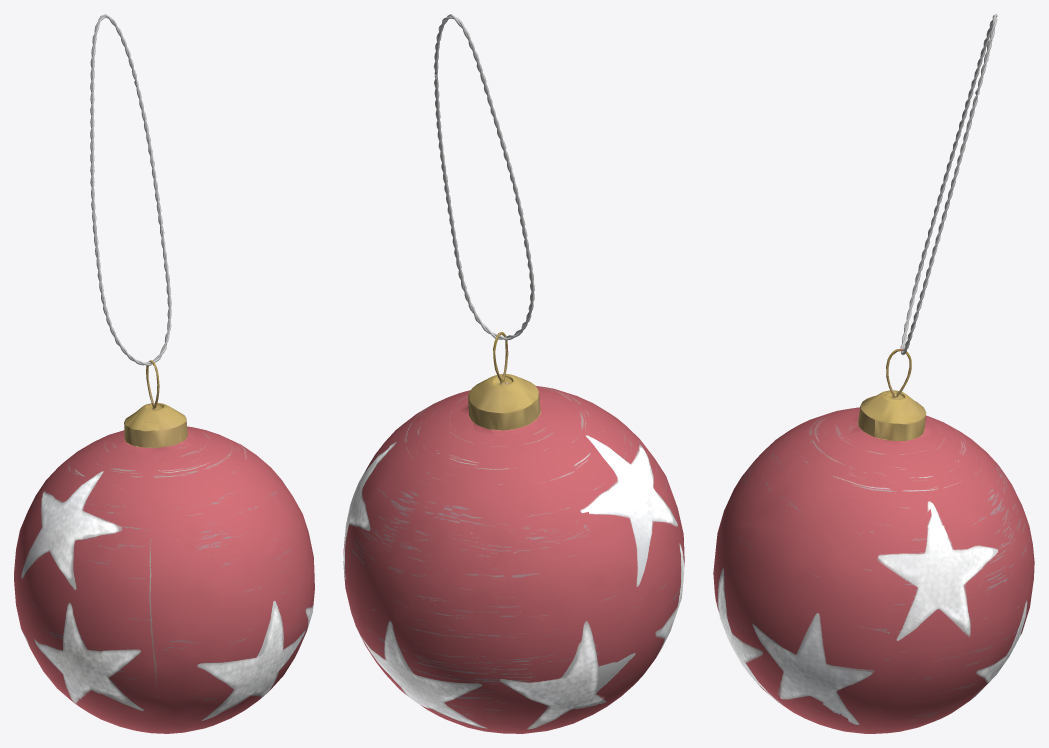
3 renders of one model, left to right at view 1: azimuth 30°, elevation 25°; view 2: azimuth 150°, elevation 25°; view 3: azimuth 270°, elevation 25°, orthographic. The views are drawn at different scales.
Parts seen in each view (by area): view 1: Mesh1.0, GN Instance; view 2: Mesh1.0, GN Instance; view 3: Mesh1.0, GN Instance.
Part boxes in pixels (box(x1,y1,x2,y2)): Mesh1.0: box(14, 360, 314, 733); GN Instance: box(90, 14, 171, 365); Mesh1.0: box(343, 332, 684, 733); GN Instance: box(433, 14, 534, 340); Mesh1.0: box(713, 349, 1034, 733); GN Instance: box(900, 14, 997, 355).
Size of the model in its own units: 0.0799 by 0.1944 by 0.0803.
Materials: 2 (1 with a texture image).
